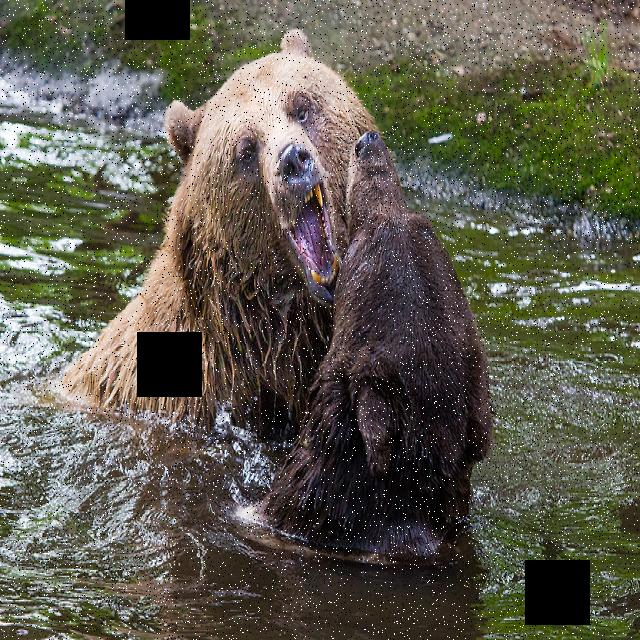Bear: (67, 23, 392, 451), (300, 126, 493, 560)
